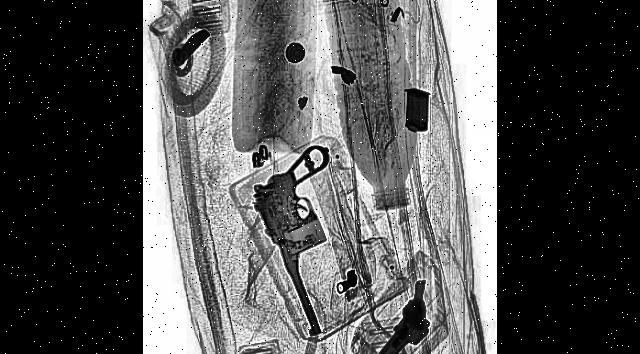Gun: (251, 100, 369, 336), (351, 273, 436, 354)
